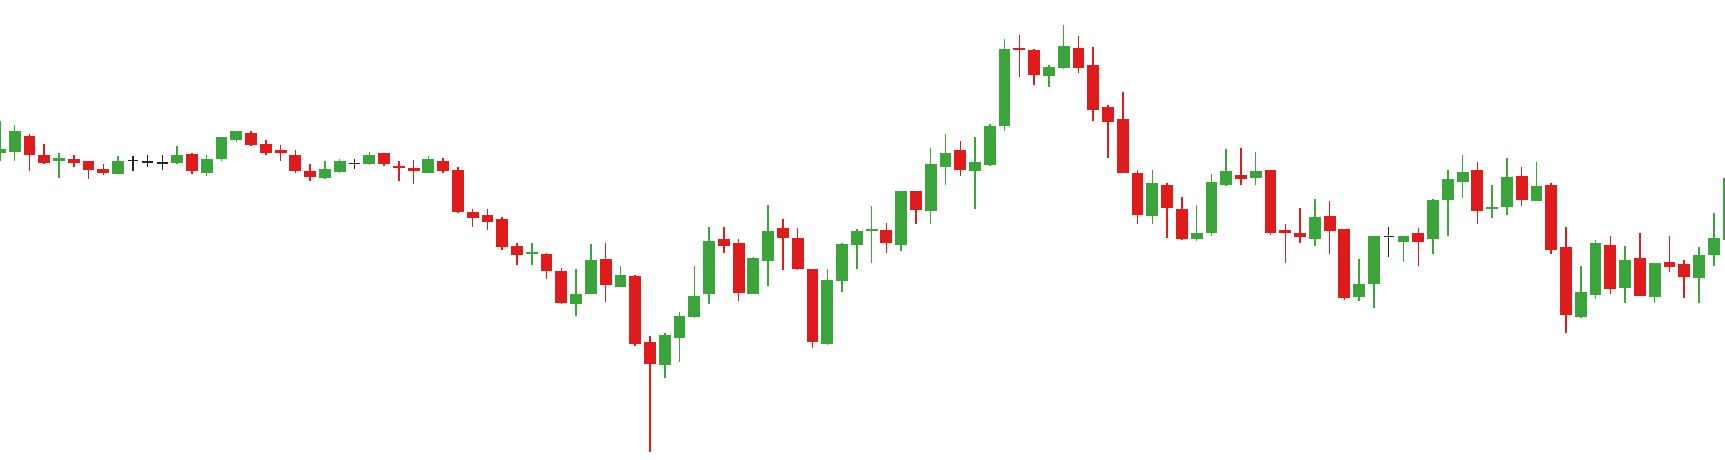buy: (1352, 206, 1590, 335), (727, 236, 835, 350)
